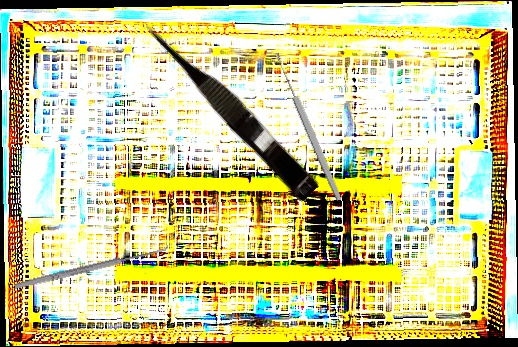Hook Surgical: (12, 238, 170, 292)
Micro Scissor: (137, 11, 325, 203)
Surgical Spoon: (272, 51, 344, 202)
